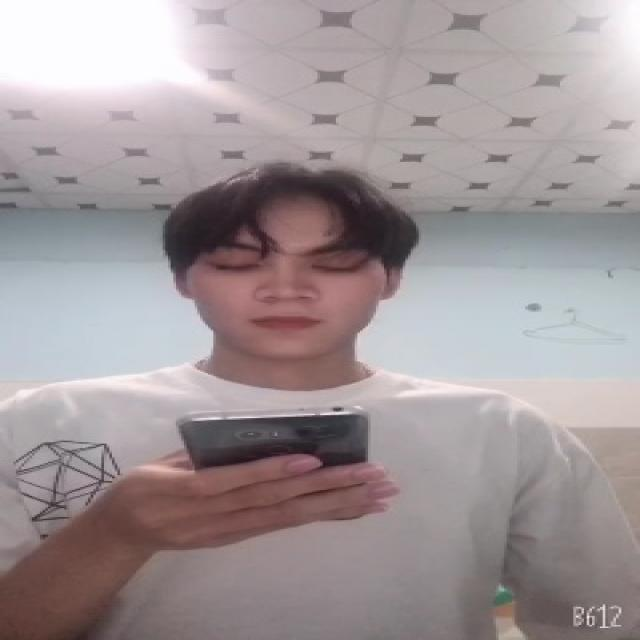Phone: (173, 402, 372, 468)
